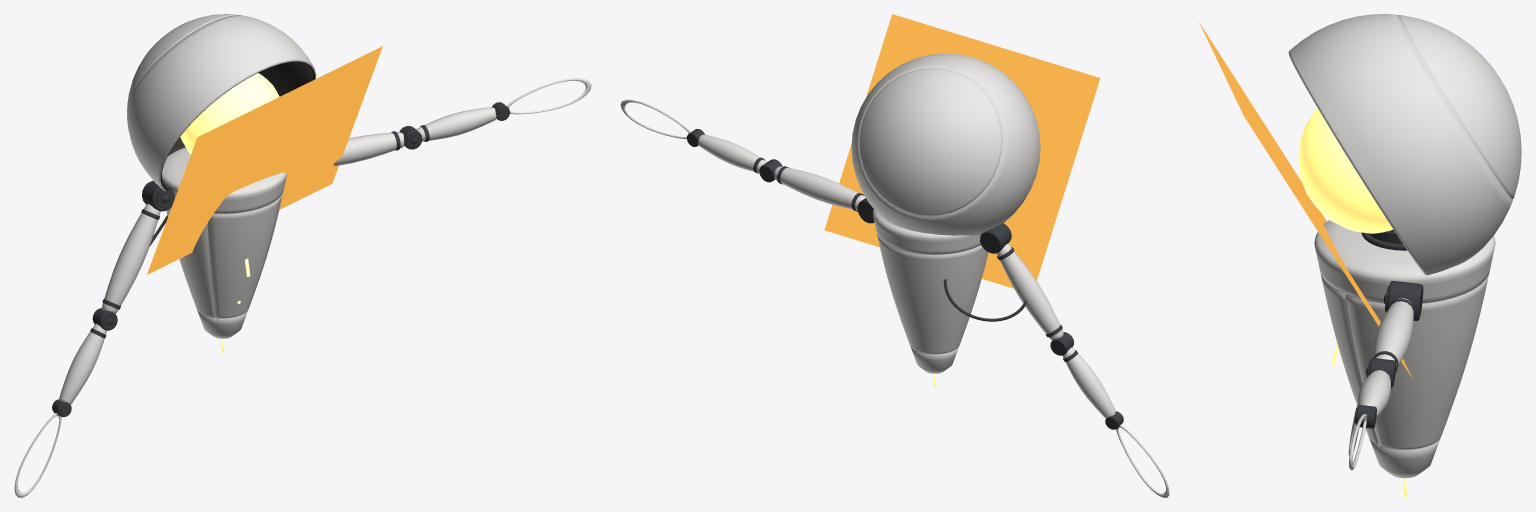
The model's file is final_working.glb.
3 renders of one model, left to right at view 1: azimuth 30°, elevation 25°; view 2: azimuth 150°, elevation 25°; view 3: azimuth 270°, elevation 25°, orthographic. The views are drawn at different scales.
Visible parts, largest first — view 1: lamp-agent; view 2: lamp-agent; view 3: lamp-agent.
Boxes of the visible parts, x1,y1,x2,y2 form: lamp-agent: (14,14,591,497); lamp-agent: (620,14,1169,497); lamp-agent: (1199,14,1521,497).
Bounding box in the file's own units: 0.4556 × 0.3121 × 0.159.
